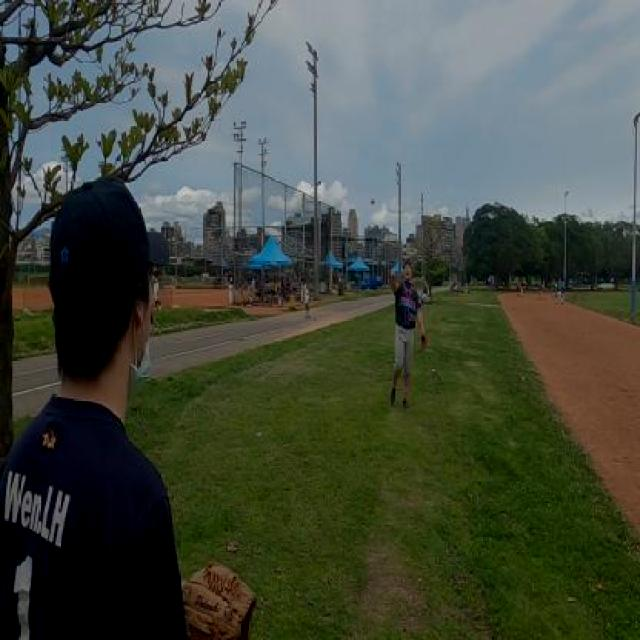ball: (369, 197, 376, 205)
